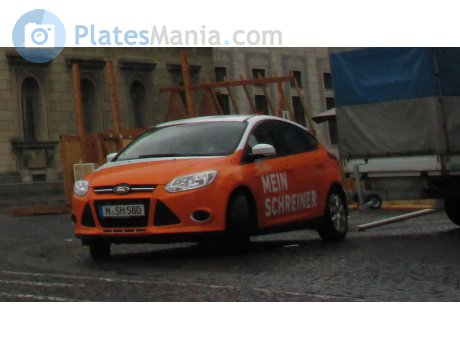License Plates: (106, 206, 140, 211)
